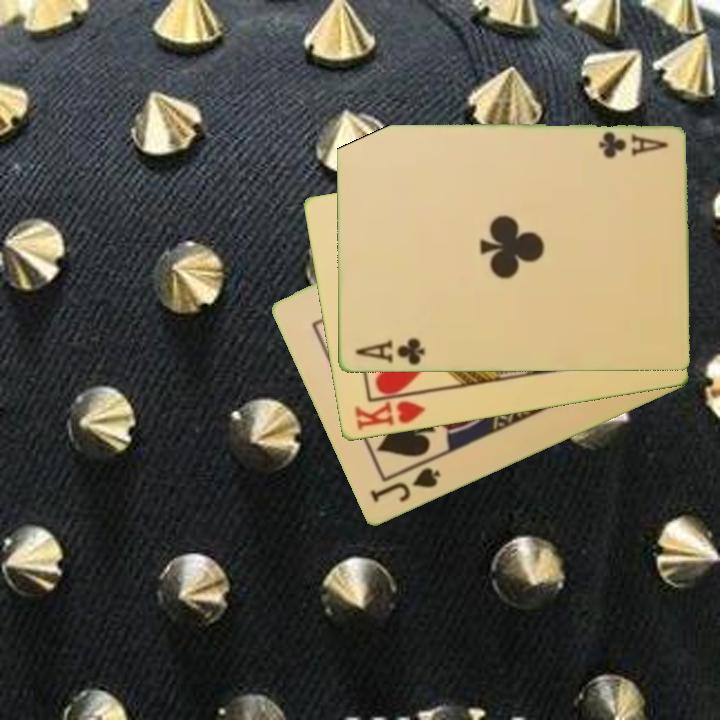Ac: (352, 335, 428, 369), (594, 129, 670, 162)
Js: (366, 464, 444, 506)
Kh: (350, 390, 430, 434)
